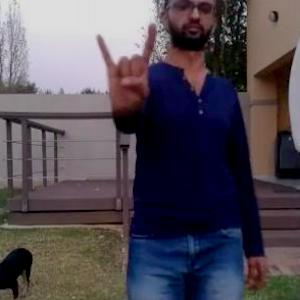takeoff-hand: (92, 19, 157, 112)
